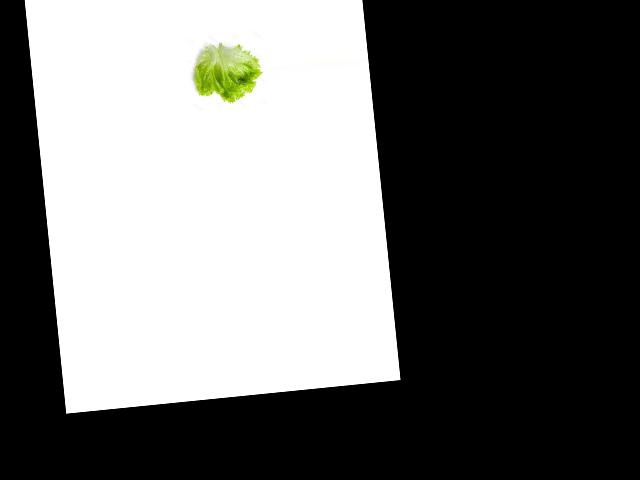lettuce: (185, 37, 266, 104)
